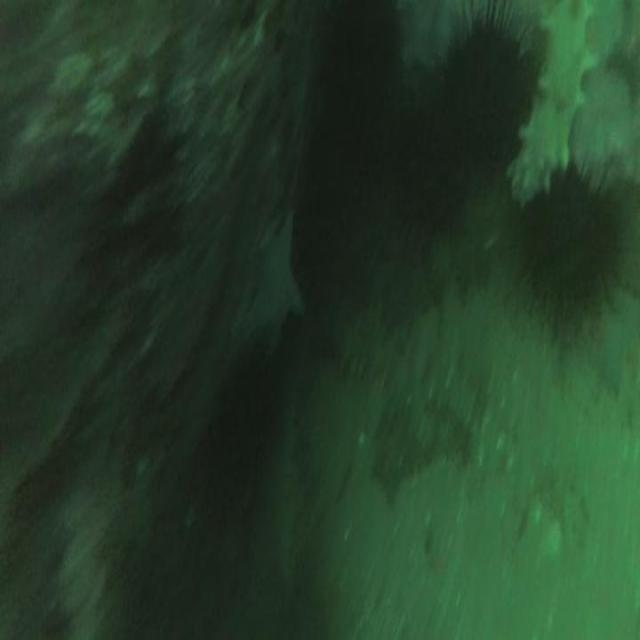echinus: (521, 174, 612, 327), (457, 20, 531, 160)
holothurian: (510, 1, 590, 204)
